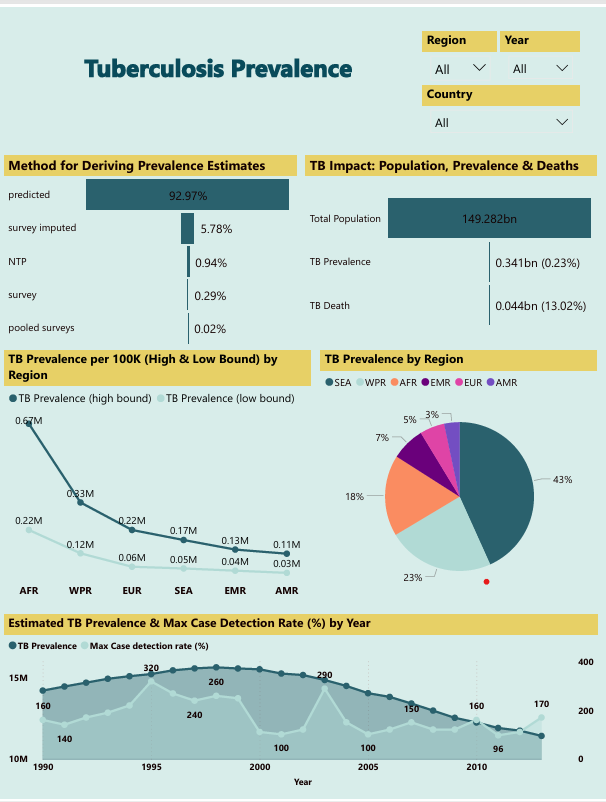

This screenshot's page, from the dashboard's own definition file:
{"tool":"powerbi","page":{"name":"TB Prevalence","canvas":[816,1056],"ordinal":1},"visuals":[{"type":"slicer","title":"Region","fields":{"Values":["TB_Burden_Country.Region"]},"box":[572,32,100,72],"z":0},{"type":"slicer","title":"Year","fields":{"Values":["TB_Burden_Country.Year"]},"box":[676.1,32.3,105.8,71.7],"z":1000},{"type":"slicer","title":"Country","fields":{"Values":["TB_Burden_Country.Country or territory name"]},"box":[572.1,104,209.8,71.7],"z":2000},{"type":"funnel","title":"Method for Deriving Prevalence Estimates","fields":{"Category":["TB_Burden_Country.Method to derive prevalence estimates"],"Y":["CountNonNull(TB_Burden_Country.Method to derive prevalence estimates)"]},"box":[14.3,197.3,390,260.1],"z":3000},{"type":"lineChart","title":"TB Prevalence per 100K (High & Low Bound) by Region","fields":{"Category":["TB_Burden_Country.Region"],"Y":["Sum(TB_Burden_Country.Estimated prevalence of TB (all forms) per 100 000 population, high bound)","Sum(TB_Burden_Country.Estimated prevalence of TB (all forms) per 100 000 population, low bound)"]},"box":[14.3,457.3,408.9,339],"z":4000},{"type":"areaChart","title":"Estimated TB Prevalence & Max Case Detection Rate (%) by Year","fields":{"Category":["TB_Burden_Country.Year"],"Y":["Sum(TB_Burden_Country.Estimated prevalence of TB (all forms))"],"Y2":["Max(TB_Burden_Country.Case detection rate (all forms), percent)"]},"box":[14.3,808.9,790.9,234.9],"z":5000},{"type":"pieChart","title":"TB Prevalence by Region","fields":{"Category":["TB_Burden_Country.Region"],"Y":["Sum(TB_Burden_Country.Estimated prevalence of TB (all forms))"]},"box":[435.8,457.3,369.5,339],"z":6000},{"type":"funnel","title":"TB Impact: Population, Prevalence & Deaths","fields":{"Y":["Sum(TB_Burden_Country.Estimated total population number)","Sum(TB_Burden_Country.Estimated prevalence of TB (all forms))","Sum(TB_Burden_Country.Estimated number of deaths from TB)"]},"box":[416.1,197.3,389.2,260.1],"z":7000},{"type":"textbox","box":[86,18,426,146],"z":8000}]}

Visuals, with their boxes in screenshot pixels (x1, y1, x2, y2), scaled from the page's 816x1056 canvas onto the 606x802 screenshot:
"Region" slicer: {"left": 425, "top": 24, "right": 499, "bottom": 79}
"Year" slicer: {"left": 502, "top": 25, "right": 581, "bottom": 79}
"Country" slicer: {"left": 425, "top": 79, "right": 581, "bottom": 133}
"Method for Deriving Prevalence Estimates" funnel: {"left": 11, "top": 150, "right": 300, "bottom": 347}
"TB Prevalence per 100K (High & Low Bound) by Region" lineChart: {"left": 11, "top": 347, "right": 314, "bottom": 605}
"Estimated TB Prevalence & Max Case Detection Rate (%) by Year" areaChart: {"left": 11, "top": 614, "right": 598, "bottom": 793}
"TB Prevalence by Region" pieChart: {"left": 324, "top": 347, "right": 598, "bottom": 605}
"TB Impact: Population, Prevalence & Deaths" funnel: {"left": 309, "top": 150, "right": 598, "bottom": 347}
textbox: {"left": 64, "top": 14, "right": 380, "bottom": 125}
